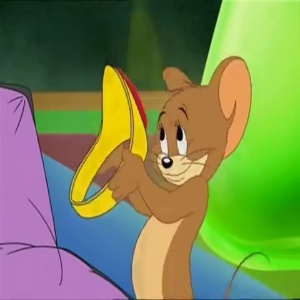Jerry: (150, 53, 254, 184)
